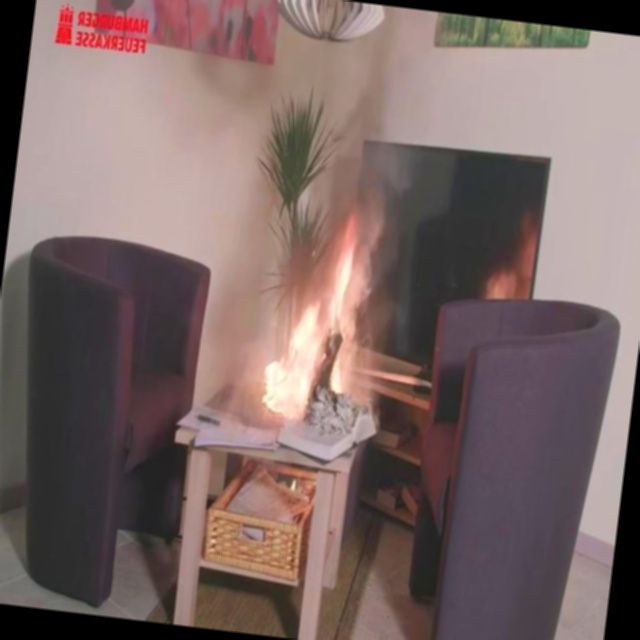fire: (254, 187, 393, 442)
